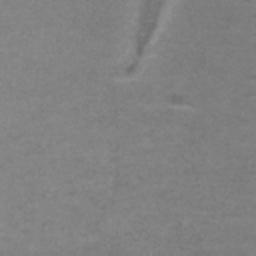Finishing roll printing: (124, 1, 165, 77), (168, 93, 196, 109)
